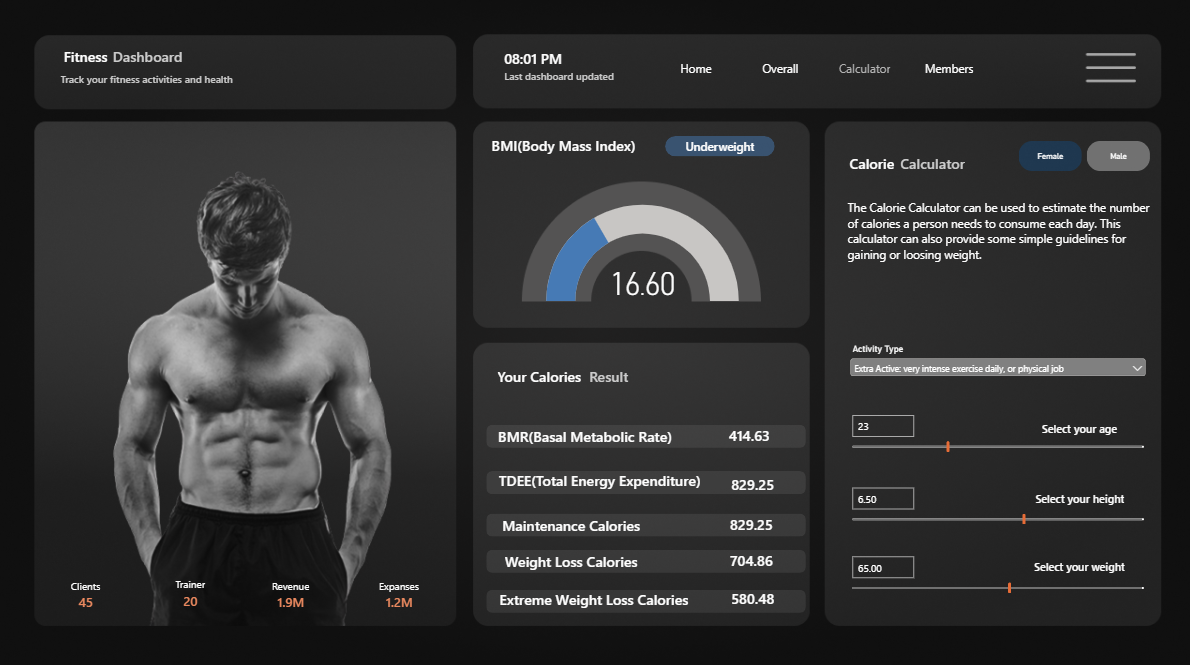

The page's visual inventory and layout, read from the dashboard file:
{"tool":"powerbi","page":{"name":"Calculator","canvas":[1920,1080],"ordinal":2},"visuals":[{"type":"slicer","fields":{"Values":["Age_Slider.Age_Slider"]},"box":[1364.1,665.2,482,94],"z":0},{"type":"slicer","fields":{"Values":["Height_Slider.Height_Slider"]},"box":[1364.3,781.4,482,94],"z":1000},{"type":"slicer","fields":{"Values":["Weight_Slider.Weight_Slider"]},"box":[1364.1,892.7,482,94],"z":2000},{"type":"slicer","fields":{"Values":["Slider_Activity.Category"]},"box":[1364.3,555.7,481.4,72.9],"z":3000},{"type":"advancedSlicerVisual","fields":{"Values":["Users.Gender"]},"box":[1638.8,232.5,210,48.8],"z":4000},{"type":"shape","box":[88.6,77.1,114,37],"z":5000},{"type":"shape","box":[171.9,77.8,144.3,37.1],"z":6000},{"type":"shape","box":[1345.5,247.3,114,37],"z":7000},{"type":"shape","box":[1427.5,247.6,144.3,37.1],"z":8000},{"type":"textbox","box":[1364.3,325.7,484.3,151.4],"z":9000},{"type":"gauge","fields":{"Y":["Weight_Slider.BMI"]},"box":[865.7,268.6,340,287.1],"z":10000},{"type":"shape","box":[1638.3,673.4,194.3,37.1],"z":11000},{"type":"shape","box":[1638.6,892.9,194.3,40],"z":12000},{"type":"shape","box":[1638.6,781.4,195.7,42.9],"z":13000},{"type":"shape","box":[784.3,220,251.4,37.1],"z":14000},{"type":"shape","box":[1071.4,224.3,175.7,32.9],"z":15000},{"type":"shape","box":[793.4,682.9,300,44.3],"z":16000},{"type":"shape","box":[785.7,686.3,511.4,37.1],"z":17000},{"type":"shape","box":[785.7,752.9,362.9,44.3],"z":18000},{"type":"shape","box":[785.7,759.1,511.4,37.1],"z":19000},{"type":"shape","box":[783.1,823.7,275.7,44.3],"z":20000},{"type":"shape","box":[785.7,827.7,511.4,37.1],"z":21000},{"type":"shape","box":[783.1,882,275.7,44.3],"z":22000},{"type":"shape","box":[785.7,886.3,511.4,37.1],"z":23000},{"type":"shape","box":[793.4,941.4,328.6,44.3],"z":24000},{"type":"shape","box":[785.7,950.6,511.4,37.1],"z":25000},{"type":"cardVisual","fields":{"Data":["Weight_Slider.BMR"]},"box":[1157.1,672.9,110,61.4],"z":26000},{"type":"cardVisual","fields":{"Data":["Weight_Slider.TDEE"]},"box":[1161.4,750,110,61.4],"z":27000},{"type":"cardVisual","fields":{"Data":["Weight_Slider.Maintain Calories"]},"box":[1160,814.3,110,61.4],"z":28000},{"type":"cardVisual","fields":{"Data":["Weight_Slider.Weight Loss Calories"]},"box":[1160,872.9,110,61.4],"z":29000},{"type":"cardVisual","fields":{"Data":["Weight_Slider.Extreme Weight Loss Calories"]},"box":[1161.4,932.9,110,61.4],"z":30000},{"type":"cardVisual","fields":{"Data":["Users.Users_Count"]},"box":[82.4,928,126.7,60],"z":31000},{"type":"cardVisual","fields":{"Data":["Count(Users.Trainer Name)"]},"box":[242.4,926.9,141.1,60],"z":32000},{"type":"cardVisual","fields":{"Data":["Users.Revenue"]},"box":[410.2,928,126.7,60],"z":33000},{"type":"cardVisual","fields":{"Data":["Users.// Total ExpensesExpanses"]},"box":[576.9,928,141.1,60],"z":34000},{"type":"shape","box":[803.5,61.5,114,74.2],"z":35000},{"type":"shape","box":[803.5,108.6,197.3,38],"z":36000},{"type":"shape","box":[92.9,114.3,301.4,37.1],"z":37000},{"type":"shape","box":[798,590,146,36],"z":38000},{"type":"shape","box":[910,578,144,60],"z":39000},{"type":"image","box":[1726.4,65.1,123.1,101.3],"z":40000},{"type":"pageNavigator","box":[1057.5,77.5,534,78],"z":40001}]}

Visuals, with their boxes in screenshot pixels (x1, y1, x2, y2), scaled from the page's 1920x1080 canvas onto the 1190x665 screenshot:
slicer - Age_Slider.Age_Slider: region(845, 410, 1144, 467)
slicer - Height_Slider.Height_Slider: region(846, 481, 1144, 539)
slicer - Weight_Slider.Weight_Slider: region(845, 550, 1144, 608)
slicer - Slider_Activity.Category: region(846, 342, 1144, 387)
advancedSlicerVisual - Users.Gender: region(1016, 143, 1146, 173)
shape: region(55, 47, 126, 70)
shape: region(107, 48, 196, 71)
shape: region(834, 152, 905, 175)
shape: region(885, 152, 974, 175)
textbox: region(846, 201, 1146, 294)
gauge - Weight_Slider.BMI: region(537, 165, 747, 342)
shape: region(1015, 415, 1136, 437)
shape: region(1016, 550, 1136, 574)
shape: region(1016, 481, 1137, 508)
shape: region(486, 135, 642, 158)
shape: region(664, 138, 773, 158)
shape: region(492, 420, 678, 448)
shape: region(487, 423, 804, 445)
shape: region(487, 464, 712, 491)
shape: region(487, 467, 804, 490)
shape: region(485, 507, 656, 534)
shape: region(487, 510, 804, 532)
shape: region(485, 543, 656, 570)
shape: region(487, 546, 804, 569)
shape: region(492, 580, 695, 607)
shape: region(487, 585, 804, 608)
cardVisual - Weight_Slider.BMR: region(717, 414, 785, 452)
cardVisual - Weight_Slider.TDEE: region(720, 462, 788, 500)
cardVisual - Weight_Slider.Maintain Calories: region(719, 501, 787, 539)
cardVisual - Weight_Slider.Weight Loss Calories: region(719, 537, 787, 575)
cardVisual - Weight_Slider.Extreme Weight Loss Calories: region(720, 574, 788, 612)
cardVisual - Users.Users_Count: region(51, 571, 130, 608)
cardVisual - Count(Users.Trainer Name): region(150, 571, 238, 608)
cardVisual - Users.Revenue: region(254, 571, 333, 608)
cardVisual - Users.// Total ExpensesExpanses: region(358, 571, 445, 608)
shape: region(498, 38, 569, 84)
shape: region(498, 67, 620, 90)
shape: region(58, 70, 244, 93)
shape: region(495, 363, 585, 385)
shape: region(564, 356, 653, 393)
image: region(1070, 40, 1146, 102)
pageNavigator: region(655, 48, 986, 96)
